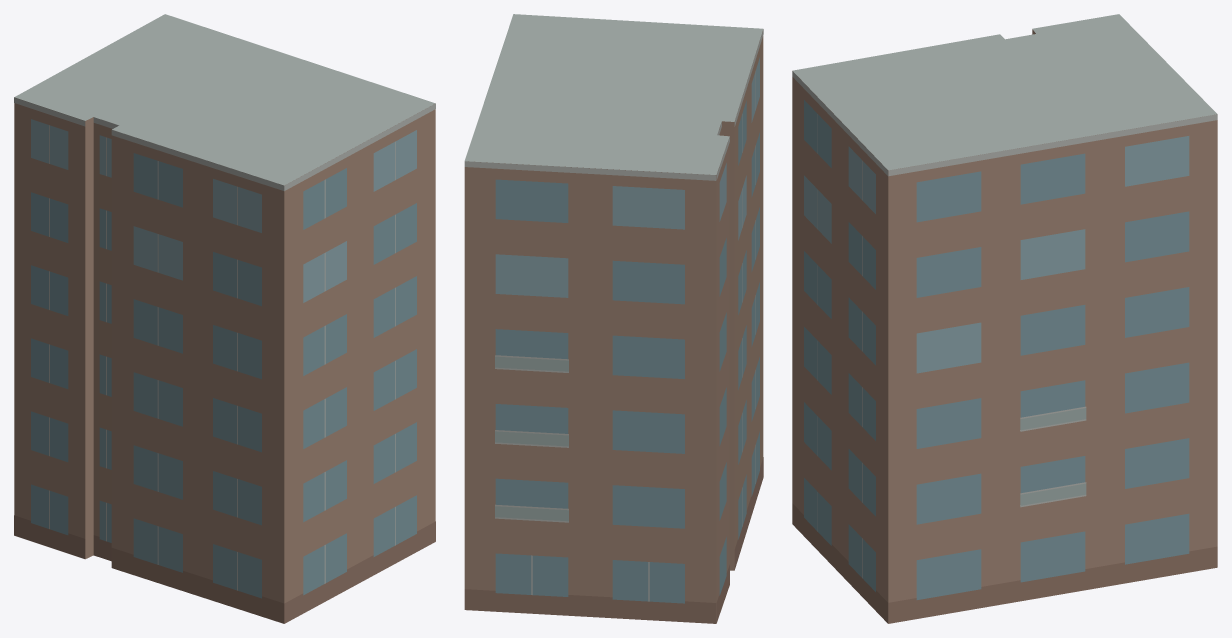
The model's file is survey-upis-32905056.glb.
3 views of the same model, side by side, from view 1: azimuth 30°, elevation 25°; view 2: azimuth 150°, elevation 25°; view 3: azimuth 270°, elevation 25° (orthographic). The views are drawn at different scales.
Visible parts, largest first — view 1: survey-upis-32905056.tmp; view 2: survey-upis-32905056.tmp; view 3: survey-upis-32905056.tmp.
Boxes of the visible parts, left/top/right/bottom form: survey-upis-32905056.tmp: left=14, top=14, right=435, bottom=623; survey-upis-32905056.tmp: left=464, top=14, right=763, bottom=623; survey-upis-32905056.tmp: left=792, top=14, right=1217, bottom=623.
Bounding box in the file's own units: 14 × 18.9 × 16.08.
